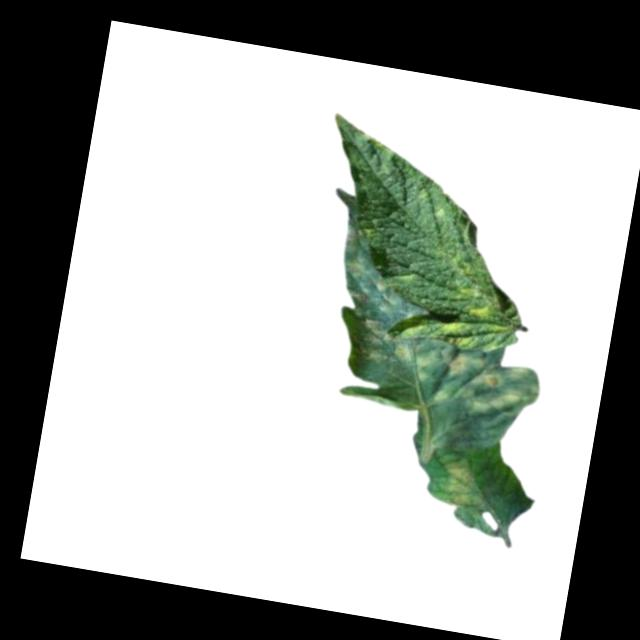Leaf_Mold: (350, 318, 549, 420), (437, 254, 529, 346), (439, 456, 493, 510)
